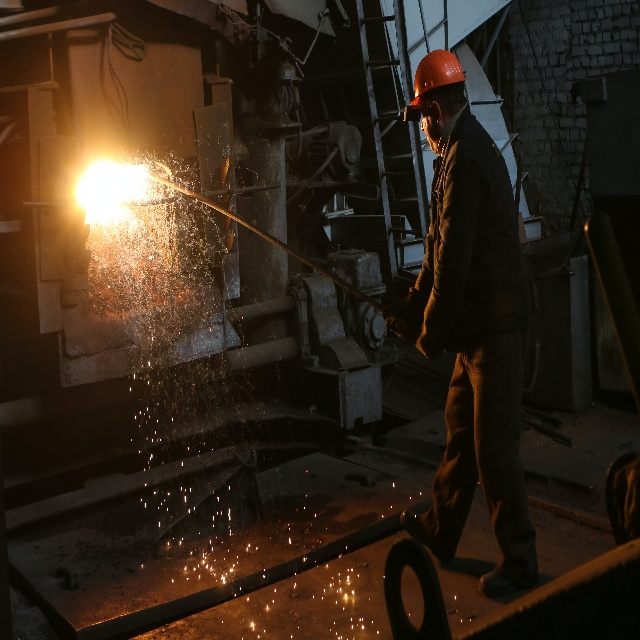Guantes: (414, 288, 448, 362), (382, 285, 424, 342)
